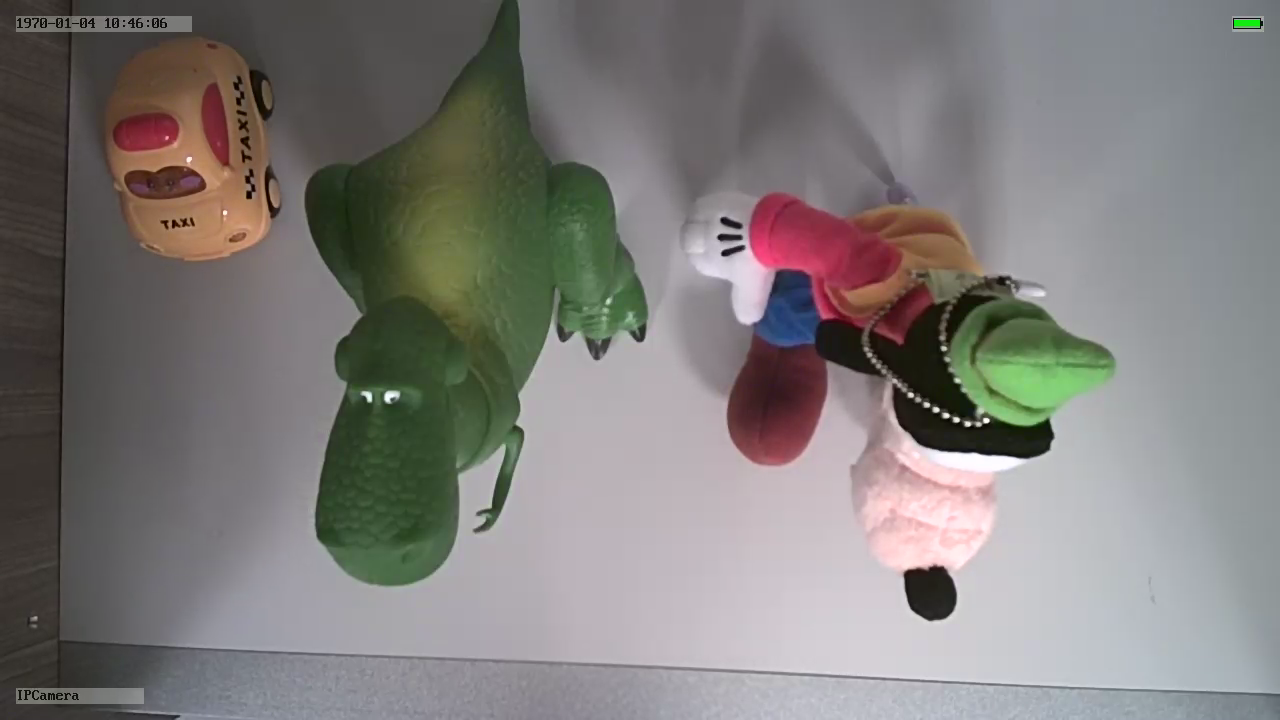goofy: (670, 182, 1123, 623)
